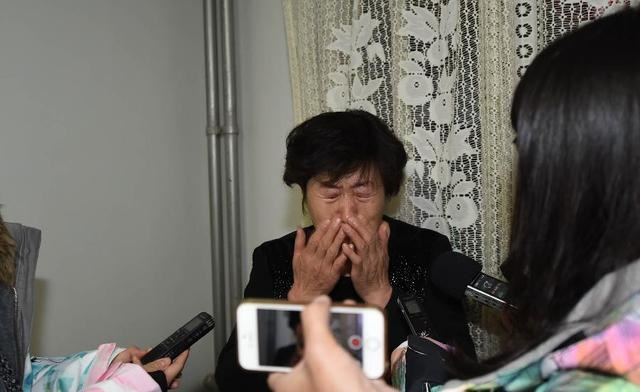face: (311, 163, 382, 248)
